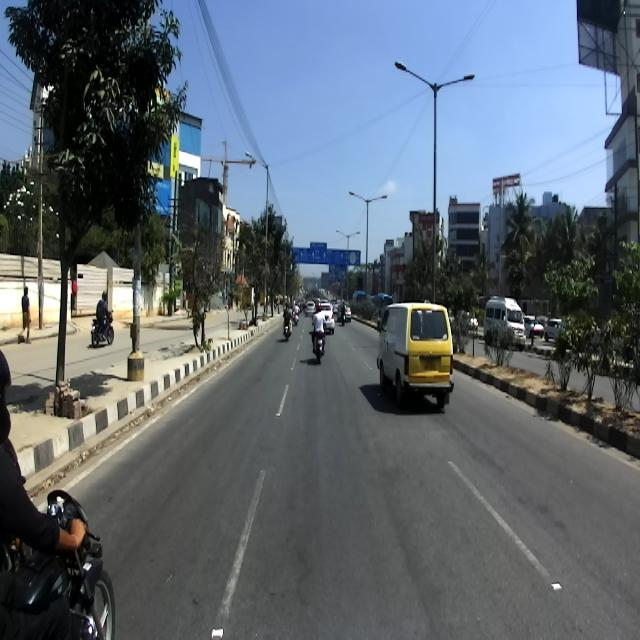car ahead at: (374, 296, 458, 410)
